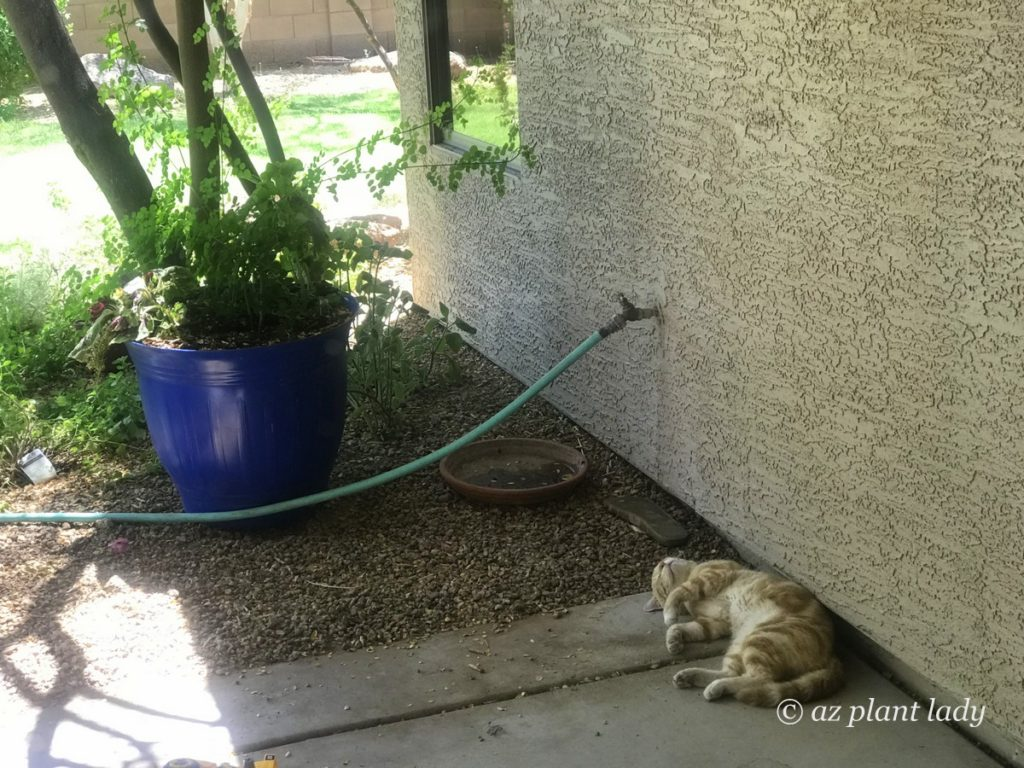cat: (648, 552, 846, 707)
